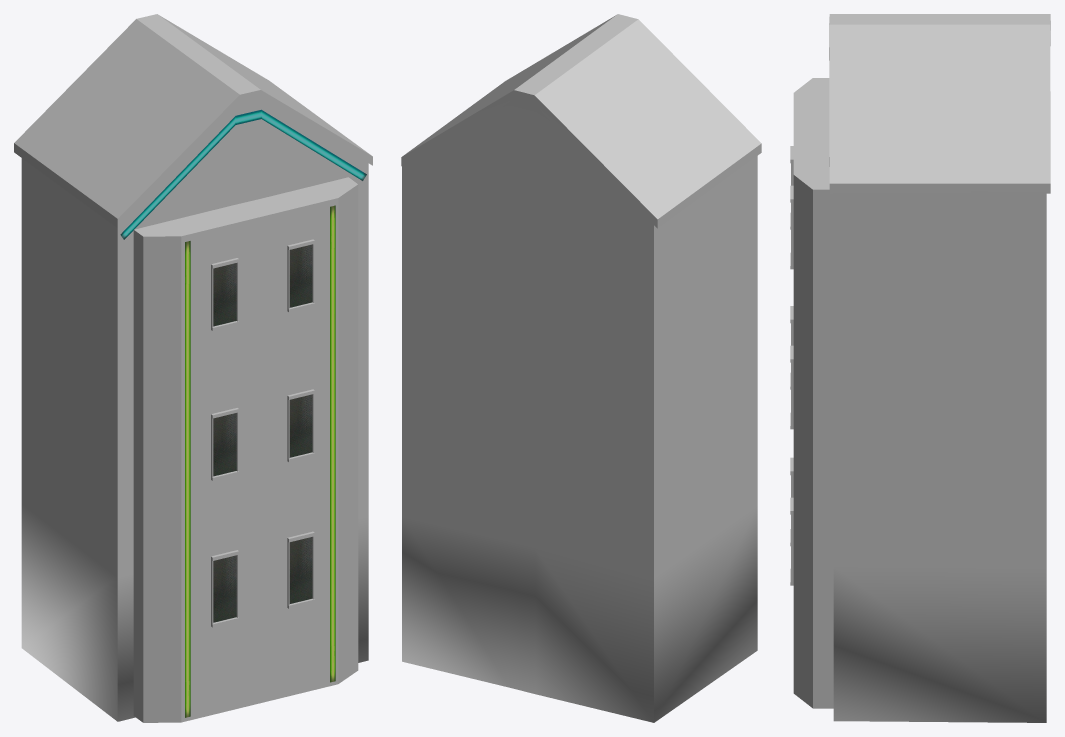
File: bldg_mall_10_c01.fbx
The picture shows the model from 3 angles, left to right: view 1: azimuth 30°, elevation 25°; view 2: azimuth 150°, elevation 25°; view 3: azimuth 270°, elevation 25°; orthographic projection. The views are drawn at different scales.
Parts seen in each view (by area): view 1: bldg_mall_10_c01; view 2: bldg_mall_10_c01; view 3: bldg_mall_10_c01.
Boxes of the visible parts, left/top/right/bottom form: bldg_mall_10_c01: left=14, top=14, right=372, bottom=722; bldg_mall_10_c01: left=401, top=14, right=761, bottom=722; bldg_mall_10_c01: left=790, top=14, right=1050, bottom=722.
Size of the model in its own units: 6.78 by 15.12 by 5.59.
